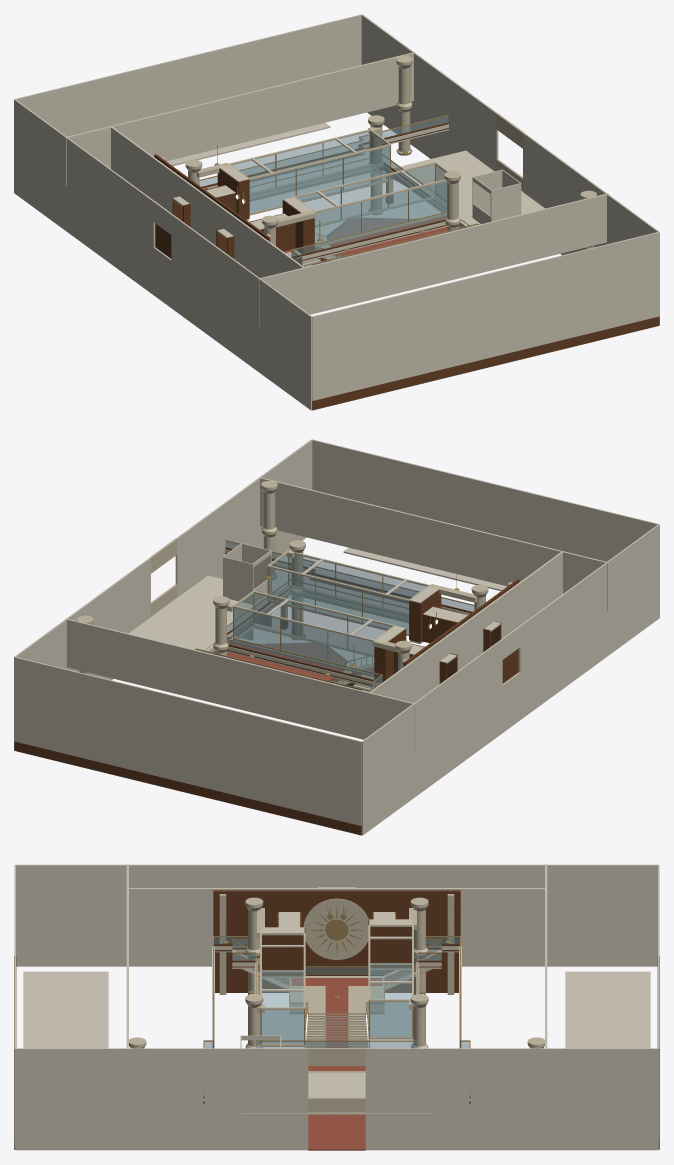
The model's file is AST-ARR-002.glb.
3 views of the same model, one above another, from view 1: azimuth 30°, elevation 25°; view 2: azimuth 150°, elevation 25°; view 3: azimuth 270°, elevation 25° (orthographic). The views are drawn at different scales.
Parts seen in each view (by area): view 1: ARR_OuterEnd_-398.15, ARR_OuterEnd_-465.85, ARR_OpaqueServiceScreen_1, ARR_WestLowerOpaque, ARR_OpaqueServiceScreen_0, ARR_EastEnclosure_-465.85, ARR_WestServiceEnclosure_-430, ARR_WestServiceEnclosure_-465.85, ARR_EastEnclosure_-429, ARR_ExhibitGlassSide_0.002, ARR_ExhibitGlassSide_1.002, ARR_ExhibitGlassSide_0 (+22 smaller); view 2: ARR_OuterEnd_-465.85, ARR_OuterEnd_-398.15, ARR_OpaqueServiceScreen_0, ARR_WestLowerOpaque, ARR_OpaqueServiceScreen_1, ARR_EastEnclosure_-429, ARR_WestServiceEnclosure_-465.85, ARR_WestServiceEnclosure_-430, ARR_EastEnclosure_-465.85, ARR_ExhibitGlassSide_0, ARR_ExhibitGlassSide_1, ARR_ExhibitGlassSide_0.002 (+22 smaller); view 3: ARR_EastEnclosure_-465.85, ARR_EastEnclosure_-429, ARR_WestLowerOpaque, ARR_WestServiceEnclosure_-465.85, ARR_WestServiceEnclosure_-430, ARR_HospitalityCanopy_1_0, ARR_HospitalityCanopy_2_0, ARR_OpaqueServiceScreen_2_solid_-438.2, ARR_OpaqueServiceScreen_2_end, ARR_StairFocalWall_end, ARR_StairFocalWall_solid_-438.2, ARR_ExhibitGlassBelly_0 (+29 smaller).
Boxes of the visible parts, x1,y1,x2,y2 form: ARR_OuterEnd_-398.15: (312,232,659,410); ARR_OuterEnd_-465.85: (14,14,361,136); ARR_OpaqueServiceScreen_1: (258,193,608,327); ARR_WestLowerOpaque: (14,145,311,410); ARR_OpaqueServiceScreen_0: (65,52,415,185); ARR_EastEnclosure_-465.85: (361,14,498,171); ARR_WestServiceEnclosure_-430: (171,214,311,362); ARR_WestServiceEnclosure_-465.85: (14,99,155,247); ARR_EastEnclosure_-429: (523,133,659,324); ARR_ExhibitGlassSide_0.002: (249,146,389,212); ARR_ExhibitGlassSide_1.002: (315,182,446,243); ARR_ExhibitGlassSide_0: (232,132,369,192); ARR_OuterEnd_-465.85: (14,657,361,835); ARR_OuterEnd_-398.15: (312,439,659,561); ARR_OpaqueServiceScreen_0: (65,618,415,752); ARR_WestLowerOpaque: (362,570,659,835); ARR_OpaqueServiceScreen_1: (258,477,608,610); ARR_EastEnclosure_-429: (175,439,312,597); ARR_WestServiceEnclosure_-465.85: (362,639,502,787); ARR_WestServiceEnclosure_-430: (518,524,659,672); ARR_EastEnclosure_-465.85: (14,558,150,749); ARR_ExhibitGlassSide_0: (234,608,374,674); ARR_ExhibitGlassSide_1: (268,568,408,633); ARR_ExhibitGlassSide_0.002: (254,593,391,654); ARR_EastEnclosure_-465.85: (365,1048,658,1150); ARR_EastEnclosure_-429: (15,1048,308,1150); ARR_WestLowerOpaque: (16,915,657,966); ARR_WestServiceEnclosure_-465.85: (356,864,658,914); ARR_WestServiceEnclosure_-430: (15,864,317,914); ARR_HospitalityCanopy_1_0: (565,971,650,1048); ARR_HospitalityCanopy_2_0: (23,971,108,1048); ARR_OpaqueServiceScreen_2_solid_-438.2: (396,888,544,940); ARR_OpaqueServiceScreen_2_end: (129,888,277,940); ARR_StairFocalWall_end: (213,890,277,992); ARR_StairFocalWall_solid_-438.2: (396,890,460,992); ARR_ExhibitGlassBelly_0: (370,963,411,1036).
Size of the model in its own units: 46 by 12 by 67.95.
7 materials, 5 textured.
